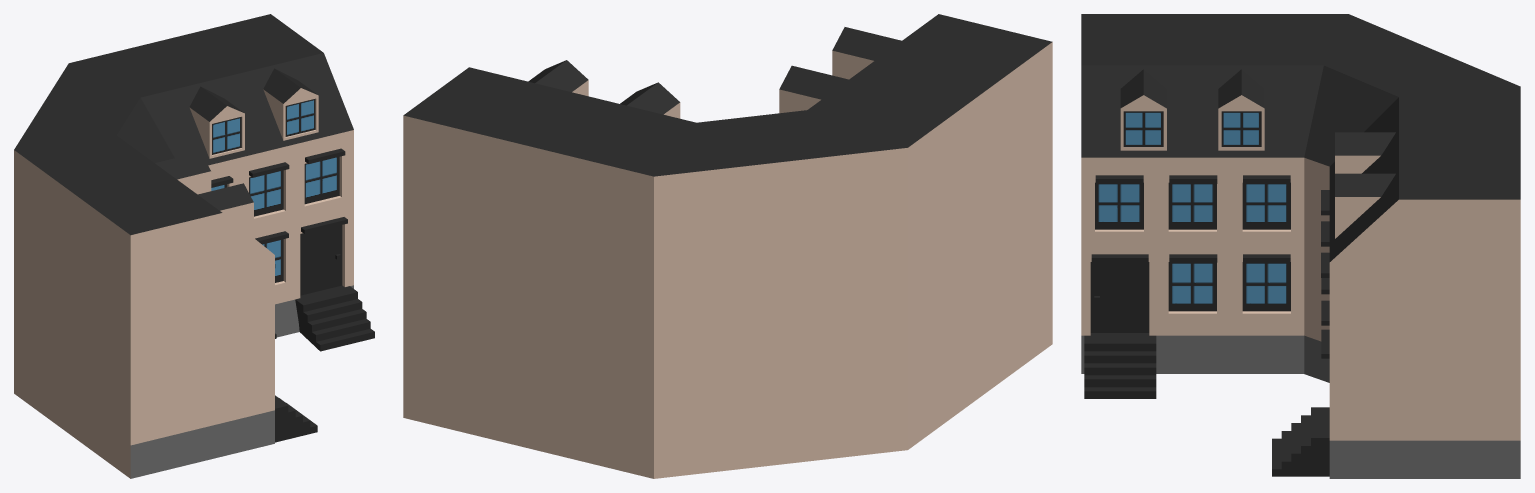
The model's file is AngleBeige.obj.
The picture shows the model from 3 angles, left to right: view 1: azimuth 30°, elevation 25°; view 2: azimuth 150°, elevation 25°; view 3: azimuth 270°, elevation 25°; orthographic projection. The views are drawn at different scales.
Visible parts, largest first — view 1: rogBezowy; view 2: rogBezowy; view 3: rogBezowy.
Boxes of the visible parts, bbox=[...] form: rogBezowy: bbox=[14, 14, 374, 478]; rogBezowy: bbox=[403, 14, 1052, 478]; rogBezowy: bbox=[1081, 14, 1520, 478].
Size of the model in its own units: 11.5 by 8.07 by 11.5.
